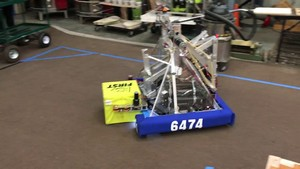cube: (102, 82, 144, 124)
